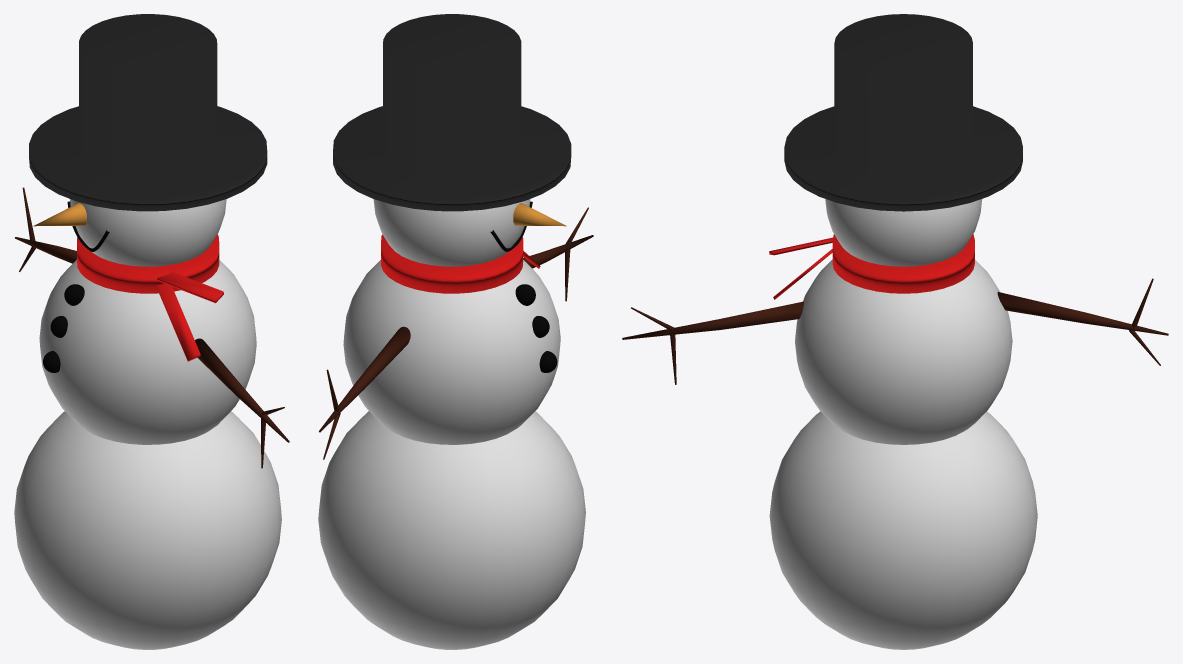
Rendered from snowman.glb.
3 renders of one model, left to right at view 1: azimuth 30°, elevation 25°; view 2: azimuth 150°, elevation 25°; view 3: azimuth 270°, elevation 25°, orthographic.
Parts seen in each view (by area): view 1: Sphere, Cylinder, Sphere.001, Sphere.002, Cylinder.007, Cylinder.005, Sphere.003, Cone; view 2: Sphere, Cylinder, Sphere.001, Sphere.002, Cylinder.007, Cylinder.005, Sphere.003, Cone; view 3: Sphere, Cylinder, Sphere.001, Sphere.002, Cylinder.007, Cylinder.005.
Part boxes in pixels (box(x1,y1,x2,y2)): Sphere: box(14, 411, 281, 649); Cylinder: box(29, 14, 267, 211); Sphere.001: box(39, 259, 256, 444); Sphere.002: box(70, 199, 226, 266); Cylinder.007: box(77, 234, 223, 361); Cylinder.005: box(15, 187, 289, 468); Sphere.003: box(43, 284, 84, 372); Cone: box(33, 203, 86, 226); Sphere: box(318, 411, 585, 649); Cylinder: box(333, 14, 571, 211); Sphere.001: box(343, 260, 560, 444); Sphere.002: box(373, 199, 530, 266); Cylinder.007: box(381, 234, 540, 293); Cylinder.005: box(319, 207, 593, 459); Sphere.003: box(515, 284, 557, 372); Cone: box(513, 203, 566, 226); Sphere: box(769, 411, 1037, 649); Cylinder: box(784, 14, 1022, 211); Sphere.001: box(795, 259, 1012, 444); Sphere.002: box(825, 199, 981, 266); Cylinder.007: box(769, 234, 974, 299); Cylinder.005: box(622, 278, 1168, 384).
Bounding box in the file's own units: 0.4829 × 1.18 × 0.9841.
